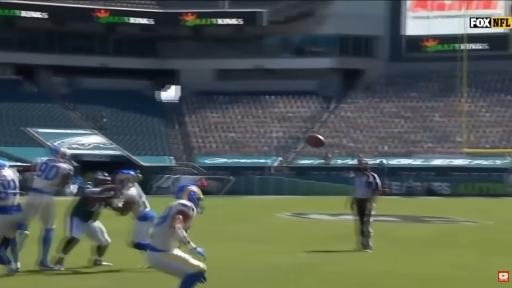Helmet: (180, 186, 204, 213), (114, 170, 137, 186), (49, 145, 70, 162), (92, 171, 111, 186), (0, 160, 8, 170)
Jersey: (150, 200, 196, 251), (71, 186, 114, 222), (31, 158, 73, 194), (123, 184, 150, 216), (0, 169, 19, 206)
Player: (55, 171, 128, 269), (19, 146, 73, 269), (147, 192, 206, 287), (115, 170, 156, 251), (0, 161, 22, 273), (175, 184, 203, 199)
